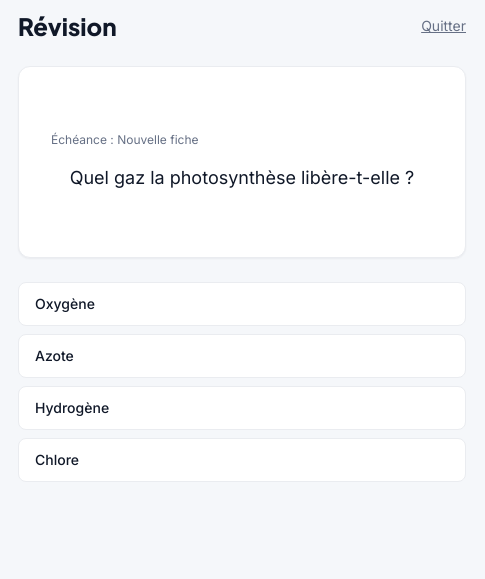
ReviewScreen › mcq: selecting an option asks the server to grade it, shows its feedback, then rates and advances using the server's suggestedRating
Expected: the text "Quel gaz la photosynthèse libère-t-elle ?" is shown, [51,164,433,192]
Click the button "Oxygène".
click(65, 304)  # box [18,282,466,326]
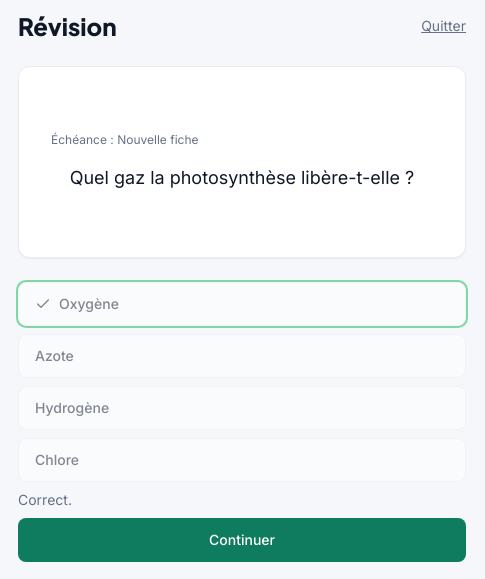
Result: the text "Correct." is shown at [18,491,72,508]
Click the button "Continuer".
click(242, 540)  # box [18,518,466,562]
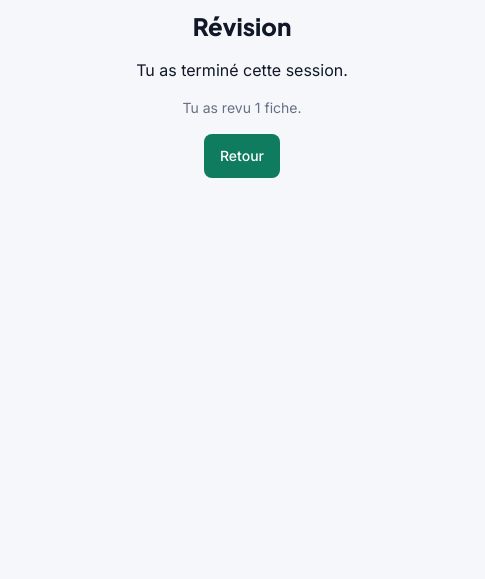
Result: the text "Tu as terminé cette session." is shown at [136,58,348,82]
